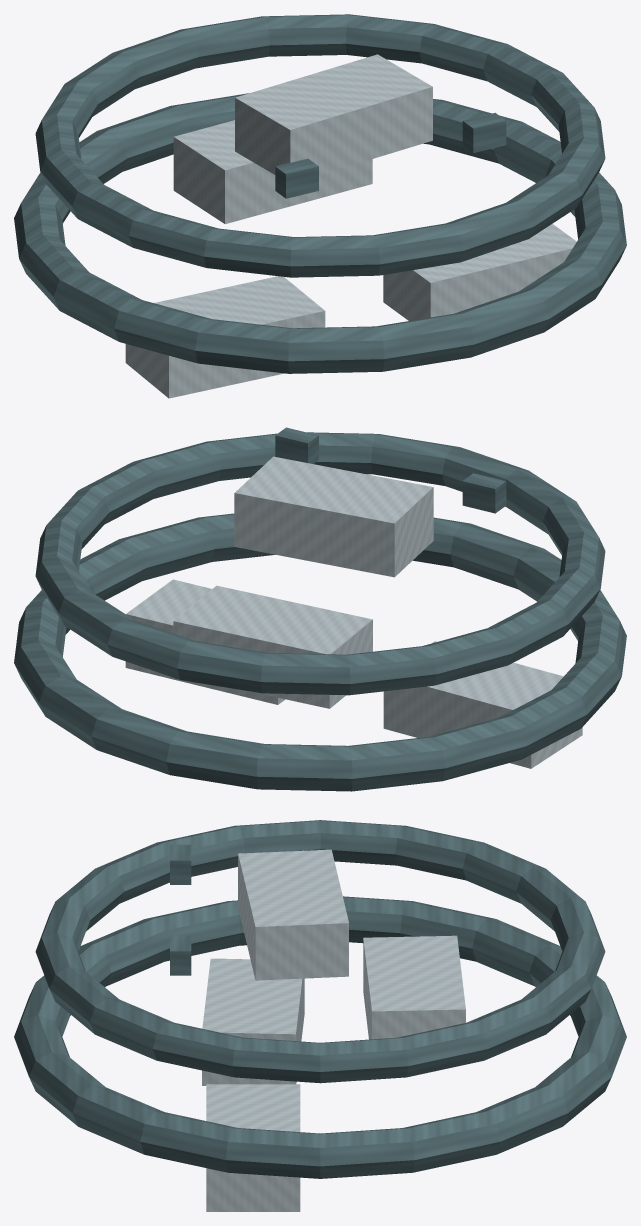
Rendered from underworld-refined-rimesilver-bar.glb.
3 views of the same model, one above another, from view 1: azimuth 30°, elevation 25°; view 2: azimuth 150°, elevation 25°; view 3: azimuth 270°, elevation 25° (orthographic).
Parts seen in each view (by area): view 1: bundle-band-high, bundle-band-low, bar-3, bar-0, bar-2, bar-1, stamp-1, stamp-0; view 2: bundle-band-low, bundle-band-high, bar-3, bar-2, bar-0, bar-1, stamp-0, stamp-1; view 3: bundle-band-low, bundle-band-high, bar-3, bar-2, bar-1, bar-0, stamp-0, stamp-1.
Part boxes in pixels (x1,y1,x2,y2): bundle-band-high: (35, 14, 605, 277); bundle-band-low: (14, 93, 626, 373); bar-3: (235, 54, 432, 174); bar-0: (125, 276, 325, 398); bar-2: (173, 120, 372, 224); bar-1: (383, 224, 576, 320); stamp-1: (462, 112, 506, 152); stamp-0: (275, 158, 318, 198); bundle-band-low: (14, 513, 626, 791); bundle-band-high: (35, 432, 605, 695); bar-3: (234, 456, 433, 577); bar-2: (173, 585, 372, 708); bar-0: (383, 641, 582, 768); bar-1: (125, 579, 285, 704); stamp-0: (462, 473, 506, 513); stamp-1: (275, 427, 318, 463); bundle-band-low: (14, 896, 626, 1178); bundle-band-high: (35, 820, 605, 1083); bar-3: (238, 849, 348, 980); bar-2: (363, 935, 465, 1039); bar-1: (206, 1084, 300, 1211); bar-0: (202, 958, 304, 1085); stamp-0: (170, 844, 191, 884); stamp-1: (170, 935, 191, 975).
Bounding box in the file's own units: 0.228 × 0.092 × 0.228.
Materials: 2 (2 with a texture image).
